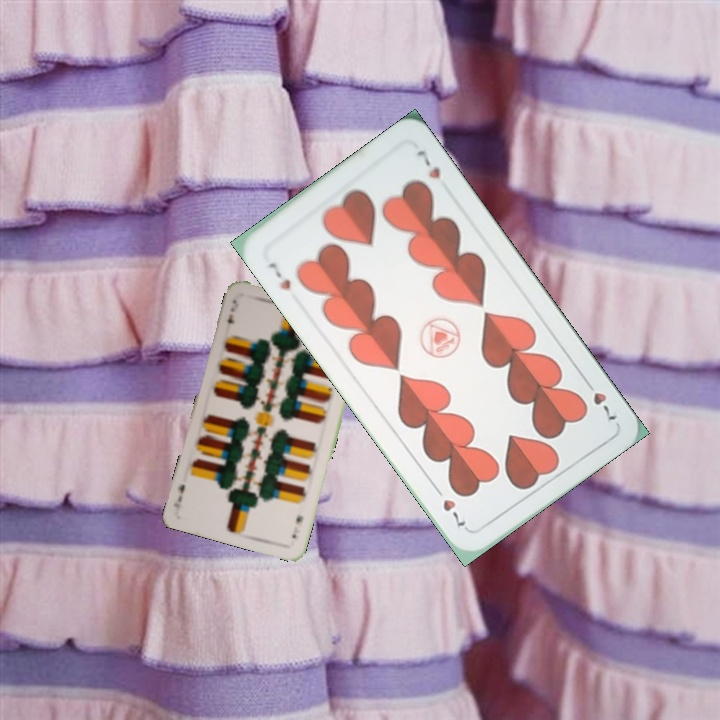E7: (288, 511, 306, 541), (224, 295, 241, 326)
H7: (580, 374, 622, 425), (263, 258, 294, 294)
